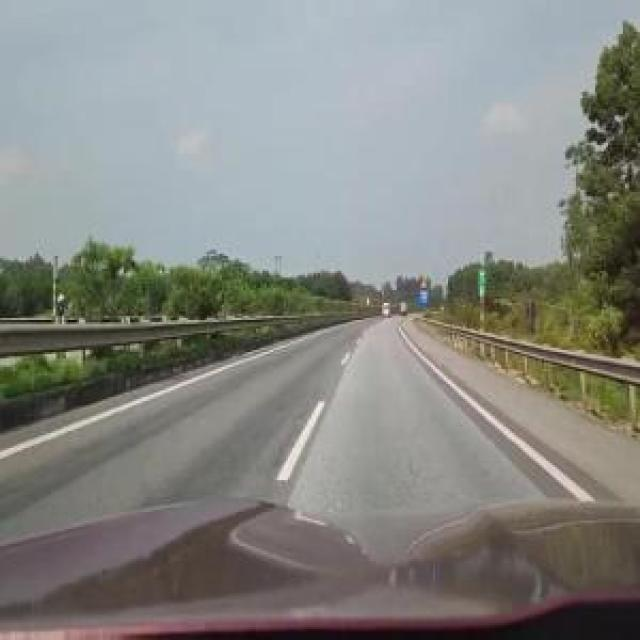clear-road: (0, 319, 542, 544)
